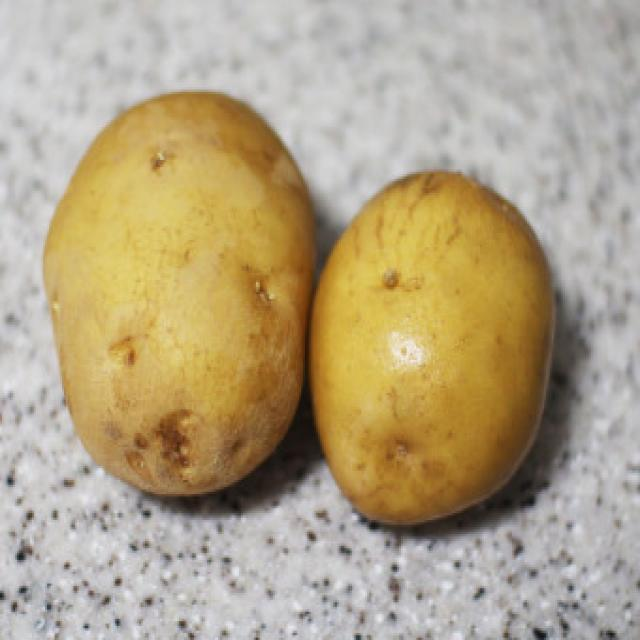potato: (35, 83, 320, 496), (308, 162, 564, 534)
